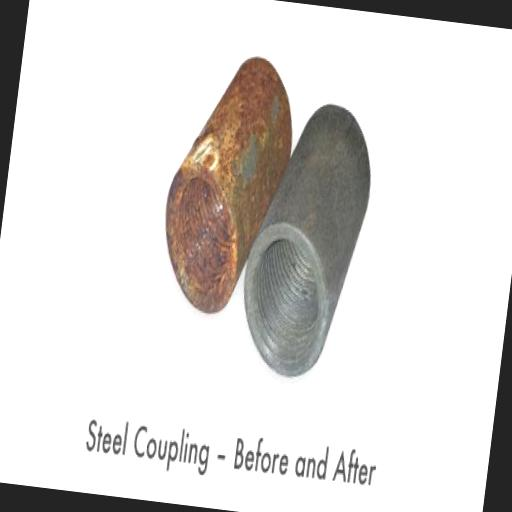segmentation: (166, 57, 292, 314)
